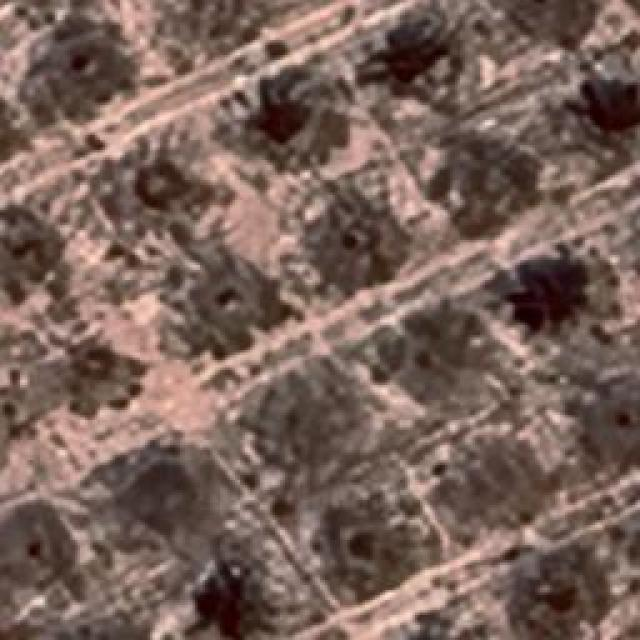PalmTree: (71, 73, 549, 292), (53, 68, 236, 600), (375, 13, 451, 88), (248, 75, 320, 140), (573, 70, 639, 138)
